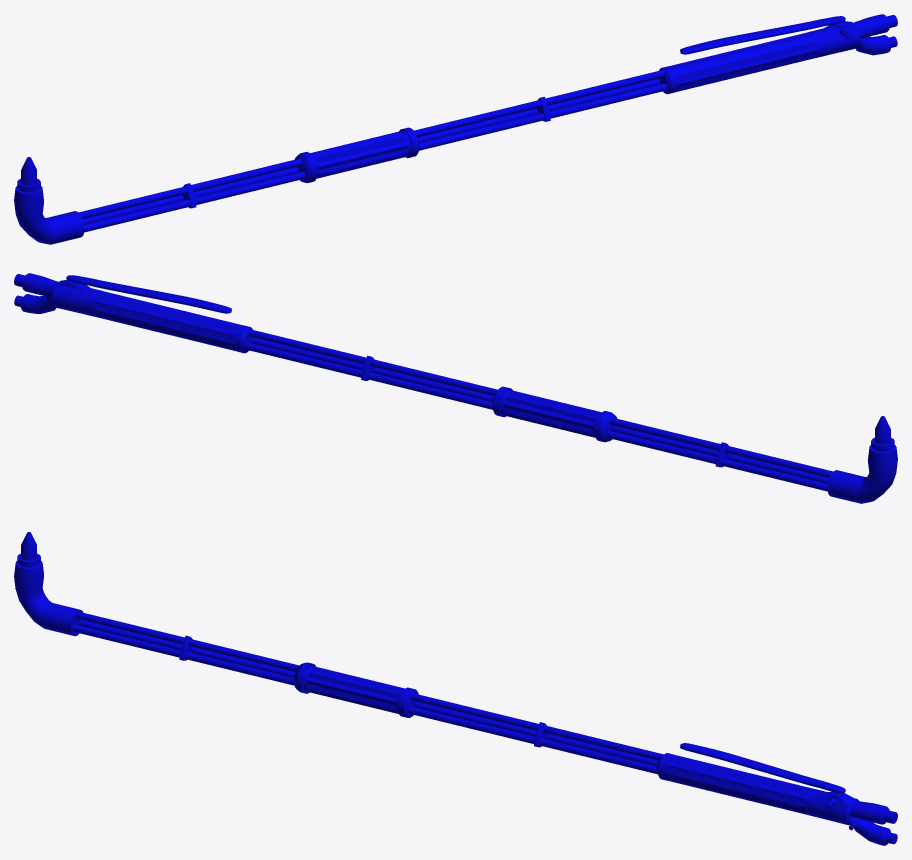
Rendered from seguranca-obj_macarico.fbx.
3 renders of one model, top to bottom at view 1: azimuth 30°, elevation 25°; view 2: azimuth 150°, elevation 25°; view 3: azimuth 330°, elevation 25°, orthographic.
Visible parts, largest first — view 1: Macarico; view 2: Macarico; view 3: Macarico.
Part boxes in pixels (x1,y1,x2,y2): Macarico: (14, 14, 897, 244); Macarico: (14, 273, 897, 503); Macarico: (14, 532, 897, 845).
Size of the model in its own units: 39.67 by 4.45 by 1.47.
